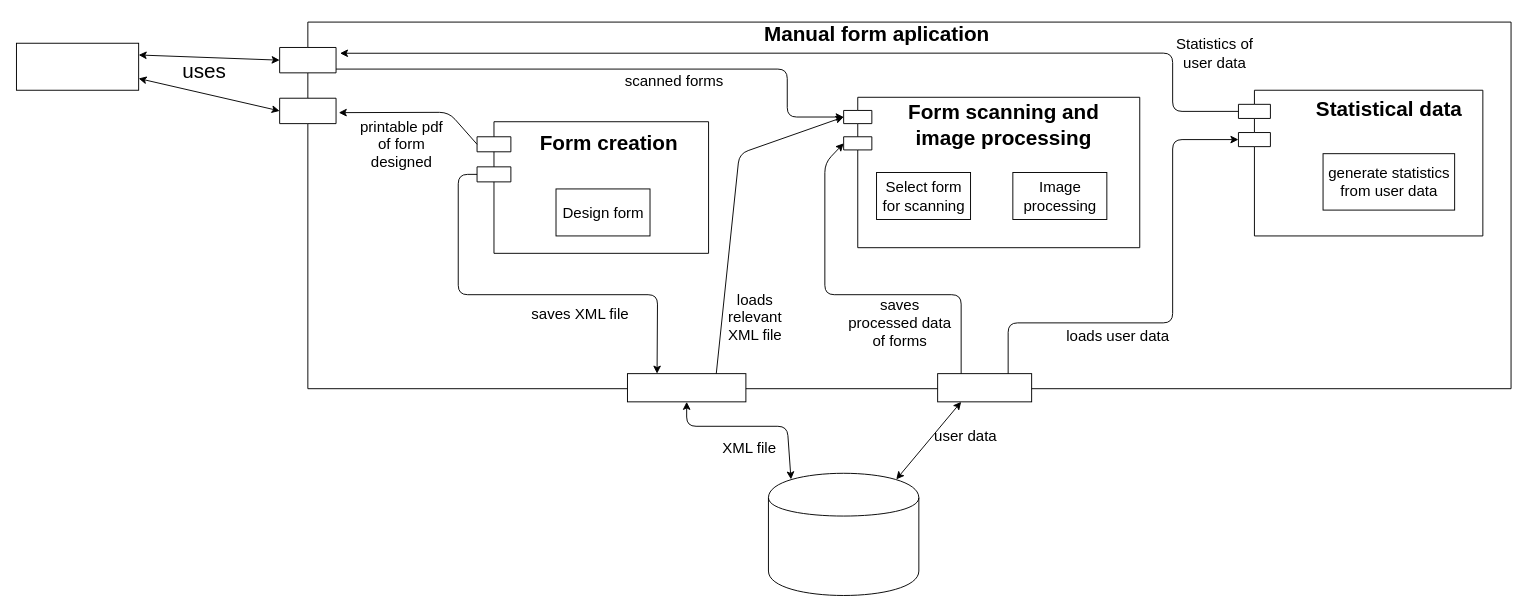
The diagram is 1528 pixels wide and 612 high, and some of its shapes have lost their labels. Each missing label, with the box of its shape:
Database: (768, 472, 919, 595)
User: (16, 42, 139, 90)
